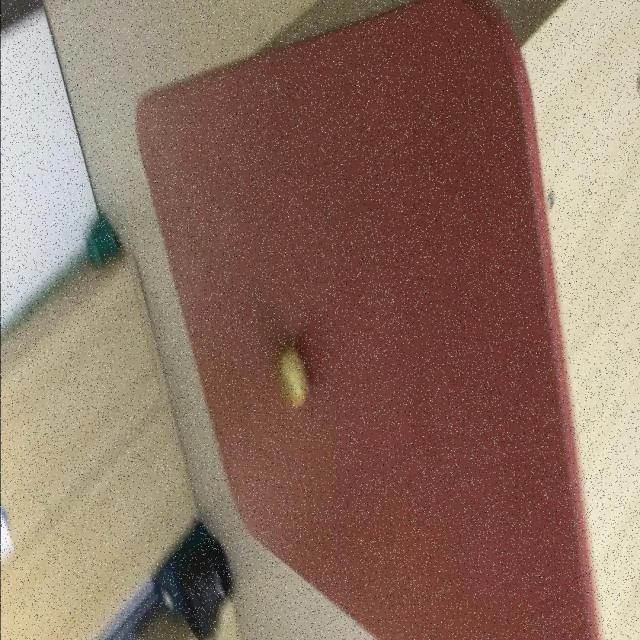Kiwi: (278, 343, 309, 409)
